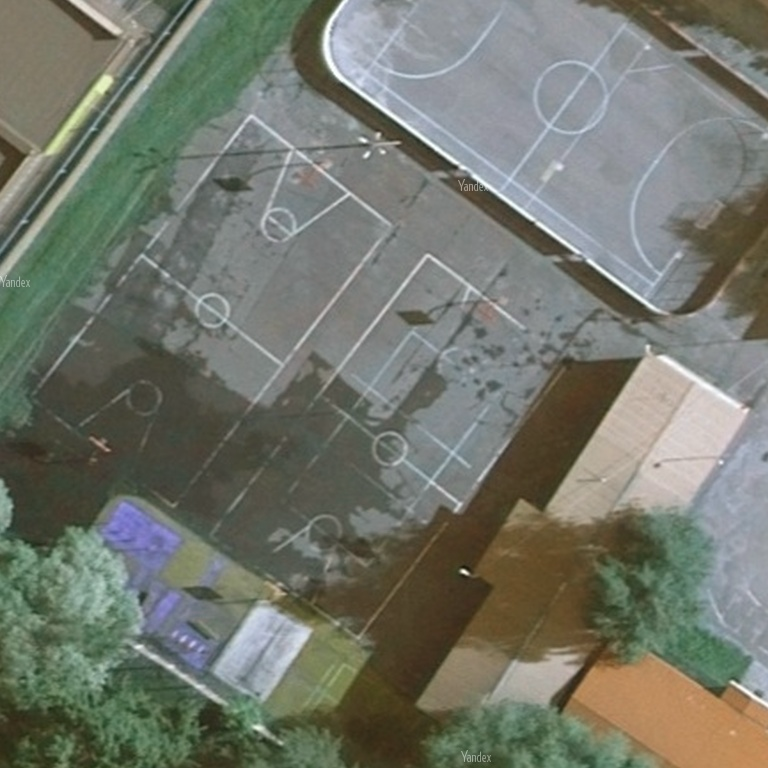basket_court: (17, 104, 414, 518), (204, 245, 583, 646)
